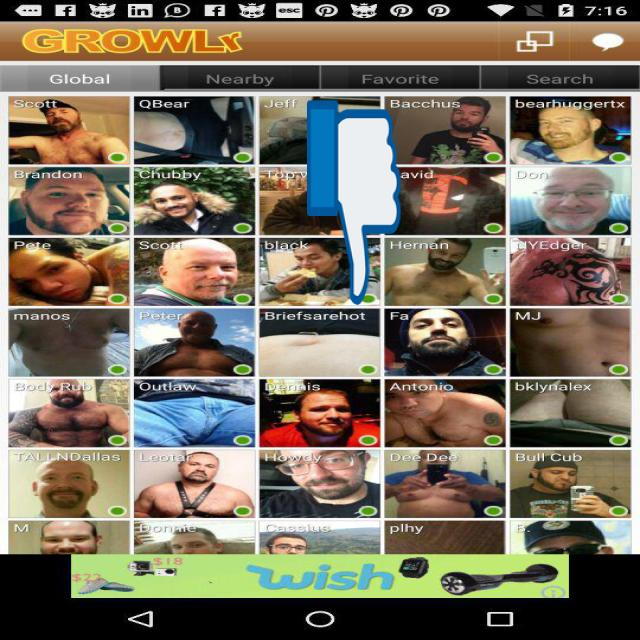obstruction: (307, 96, 401, 309)
